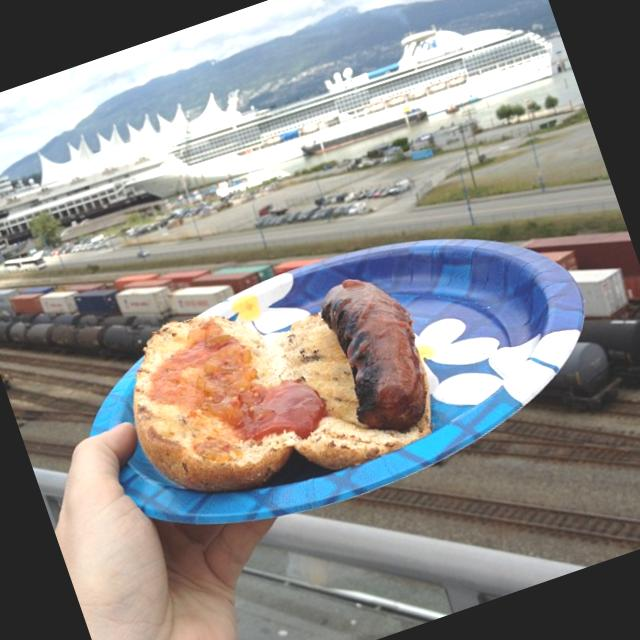Vehicle: (1, 247, 49, 282), (294, 202, 324, 224), (250, 210, 275, 230), (386, 178, 412, 196), (344, 199, 368, 216), (181, 204, 204, 218), (284, 209, 304, 224), (308, 206, 328, 220), (378, 184, 397, 198), (342, 190, 361, 203), (148, 218, 168, 230), (364, 185, 381, 198), (136, 246, 152, 258), (320, 194, 336, 205)
